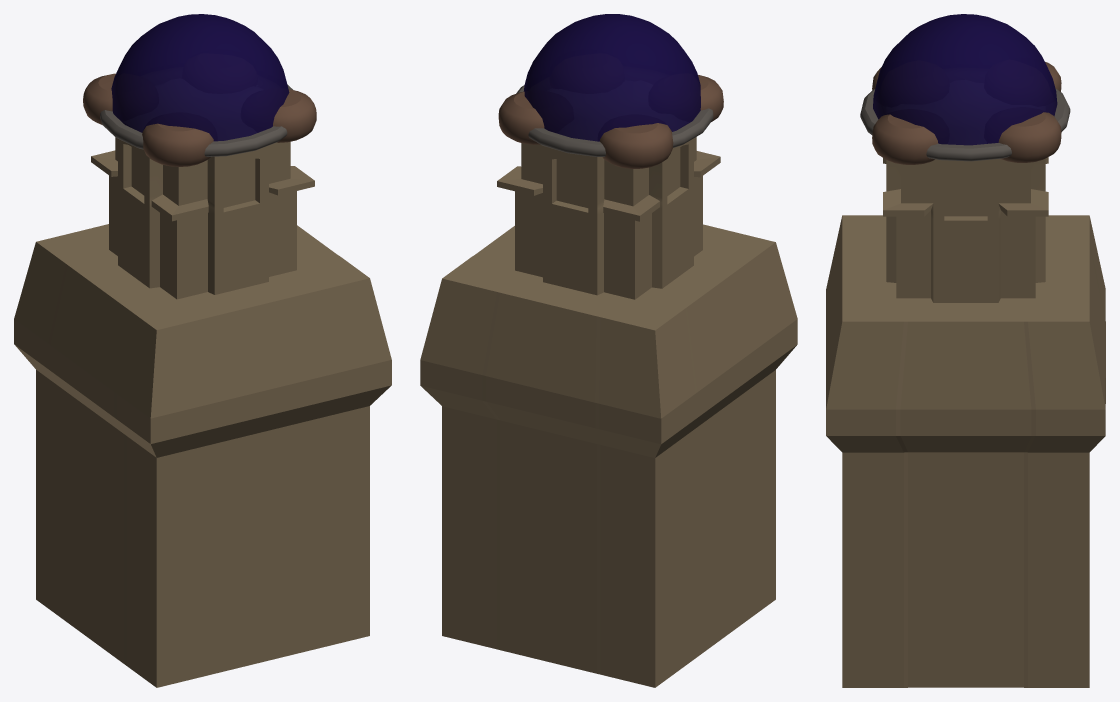
File: ShortCone.fbx
The picture shows the model from 3 angles, left to right: view 1: azimuth 30°, elevation 25°; view 2: azimuth 150°, elevation 25°; view 3: azimuth 270°, elevation 25°; orthographic projection. The views are drawn at different scales.
Parts seen in each view (by area): view 1: ShortObsorb; view 2: ShortObsorb; view 3: ShortObsorb.
Part boxes in pixels (bbox=[...]): ShortObsorb: bbox=[14, 14, 391, 687]; ShortObsorb: bbox=[420, 14, 797, 687]; ShortObsorb: bbox=[826, 14, 1105, 687].
Size of the model in its own units: 7.59 by 17.93 by 7.45.
